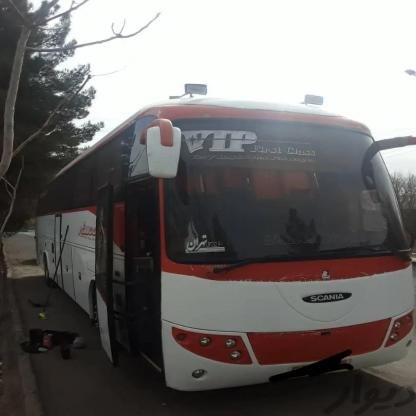Bus: (0, 82, 416, 416)
